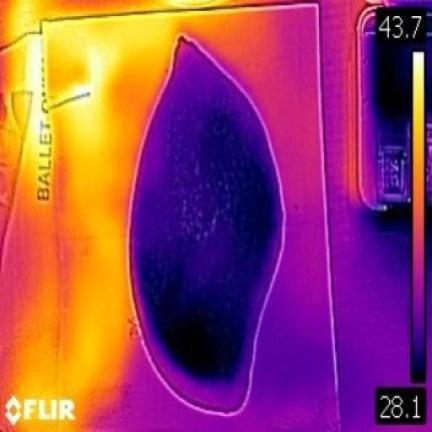mango: (131, 36, 283, 412)
